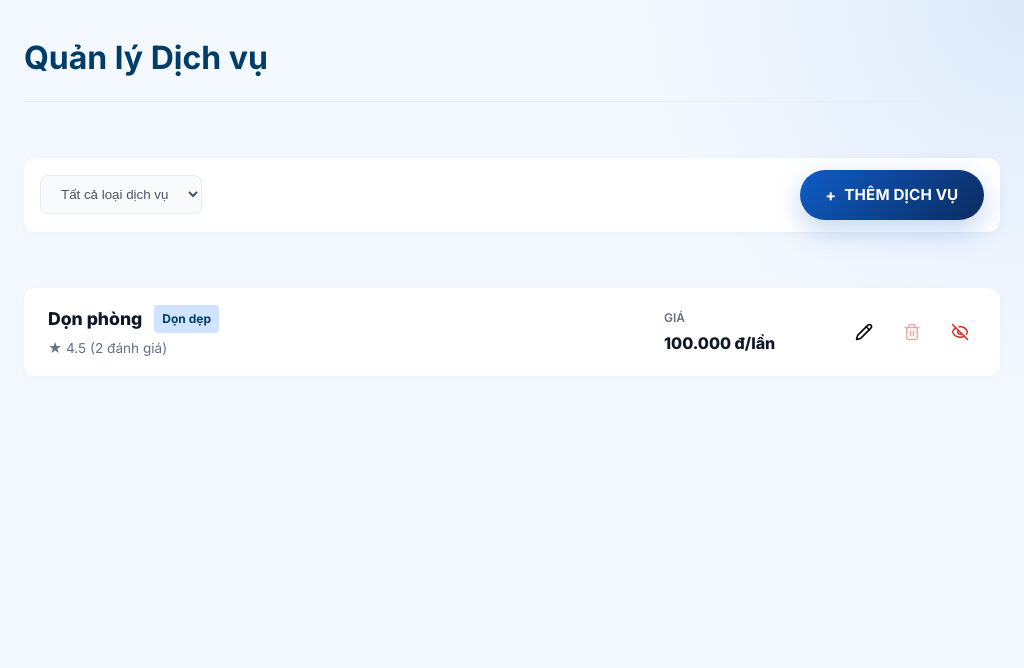
Test case: ServiceManagement › bật "yêu cầu khớp số lượng" hiện thêm ô nhãn + cột sức chứa
This screenshot has width=1024, height=668.
Expected: the text "Dọn phòng" is shown, [48,304,142,333]
Click the button "+ THÊM DỊCH VỤ". click: (892, 195)
box: [800,170,984,220]
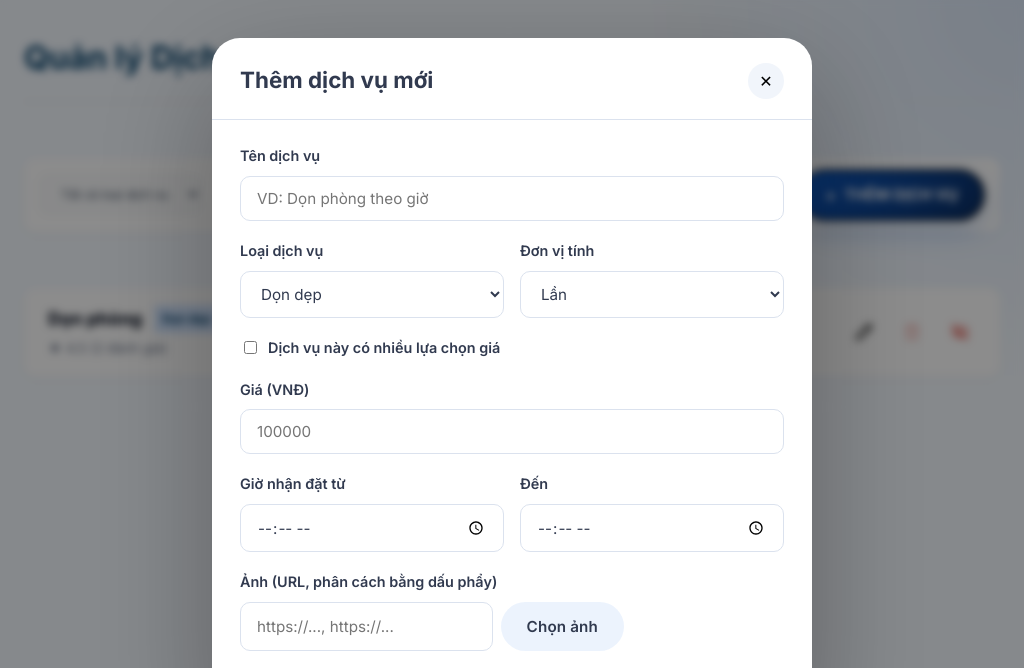
Click the checkbox labelled "Dịch vụ này có nhiều lựa chọn giá". click: (250, 348)
box: [244,341,257,354]
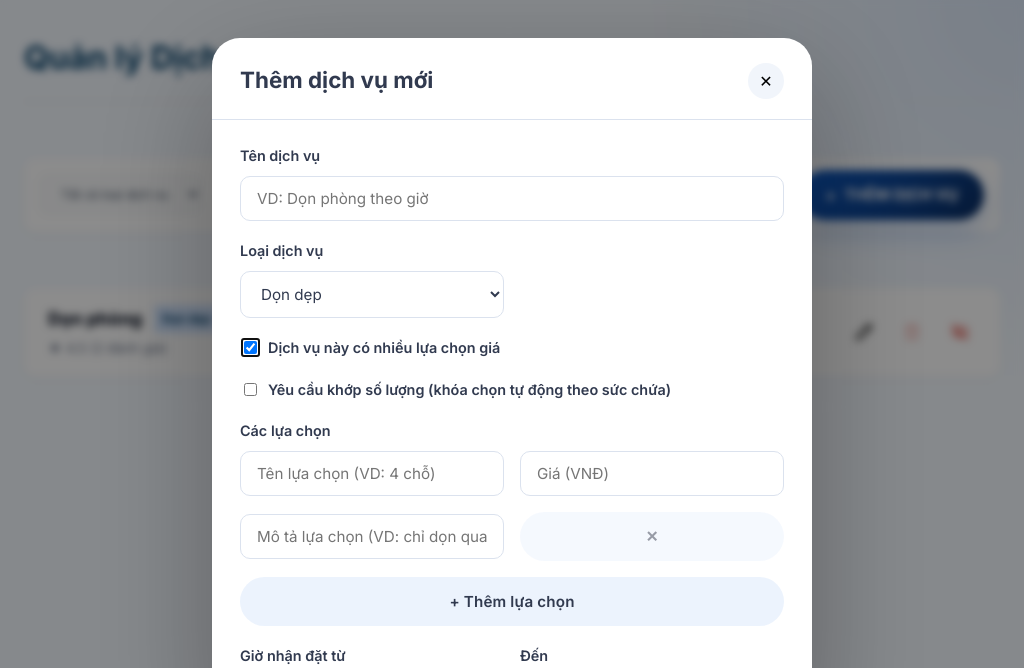
Expected: the field labelled "Nhãn số lượng hiển thị cho khách" is not shown
Click the checkbox labelled "Yêu cầu khớp số lượng (khóa chọn tự động theo sức chứa)". click: (250, 390)
box: [244,383,257,396]
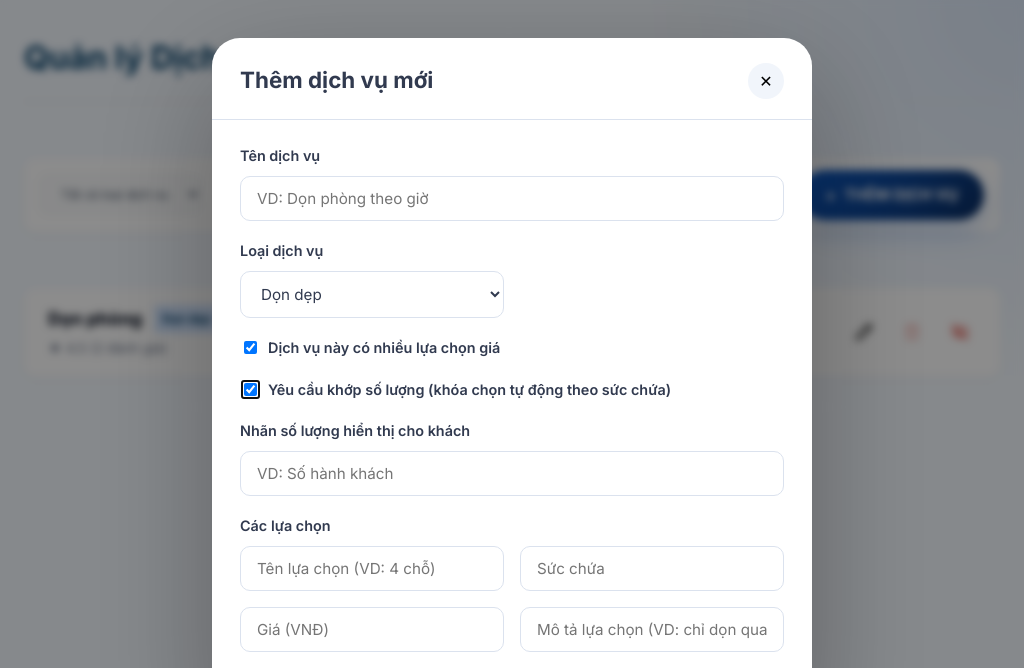
Expected: the field labelled "Nhãn số lượng hiển thị cho khách" is shown, [240,451,784,496]
Expected: the number field with placeholder "Sức chứa" is shown, [520,546,784,591]
